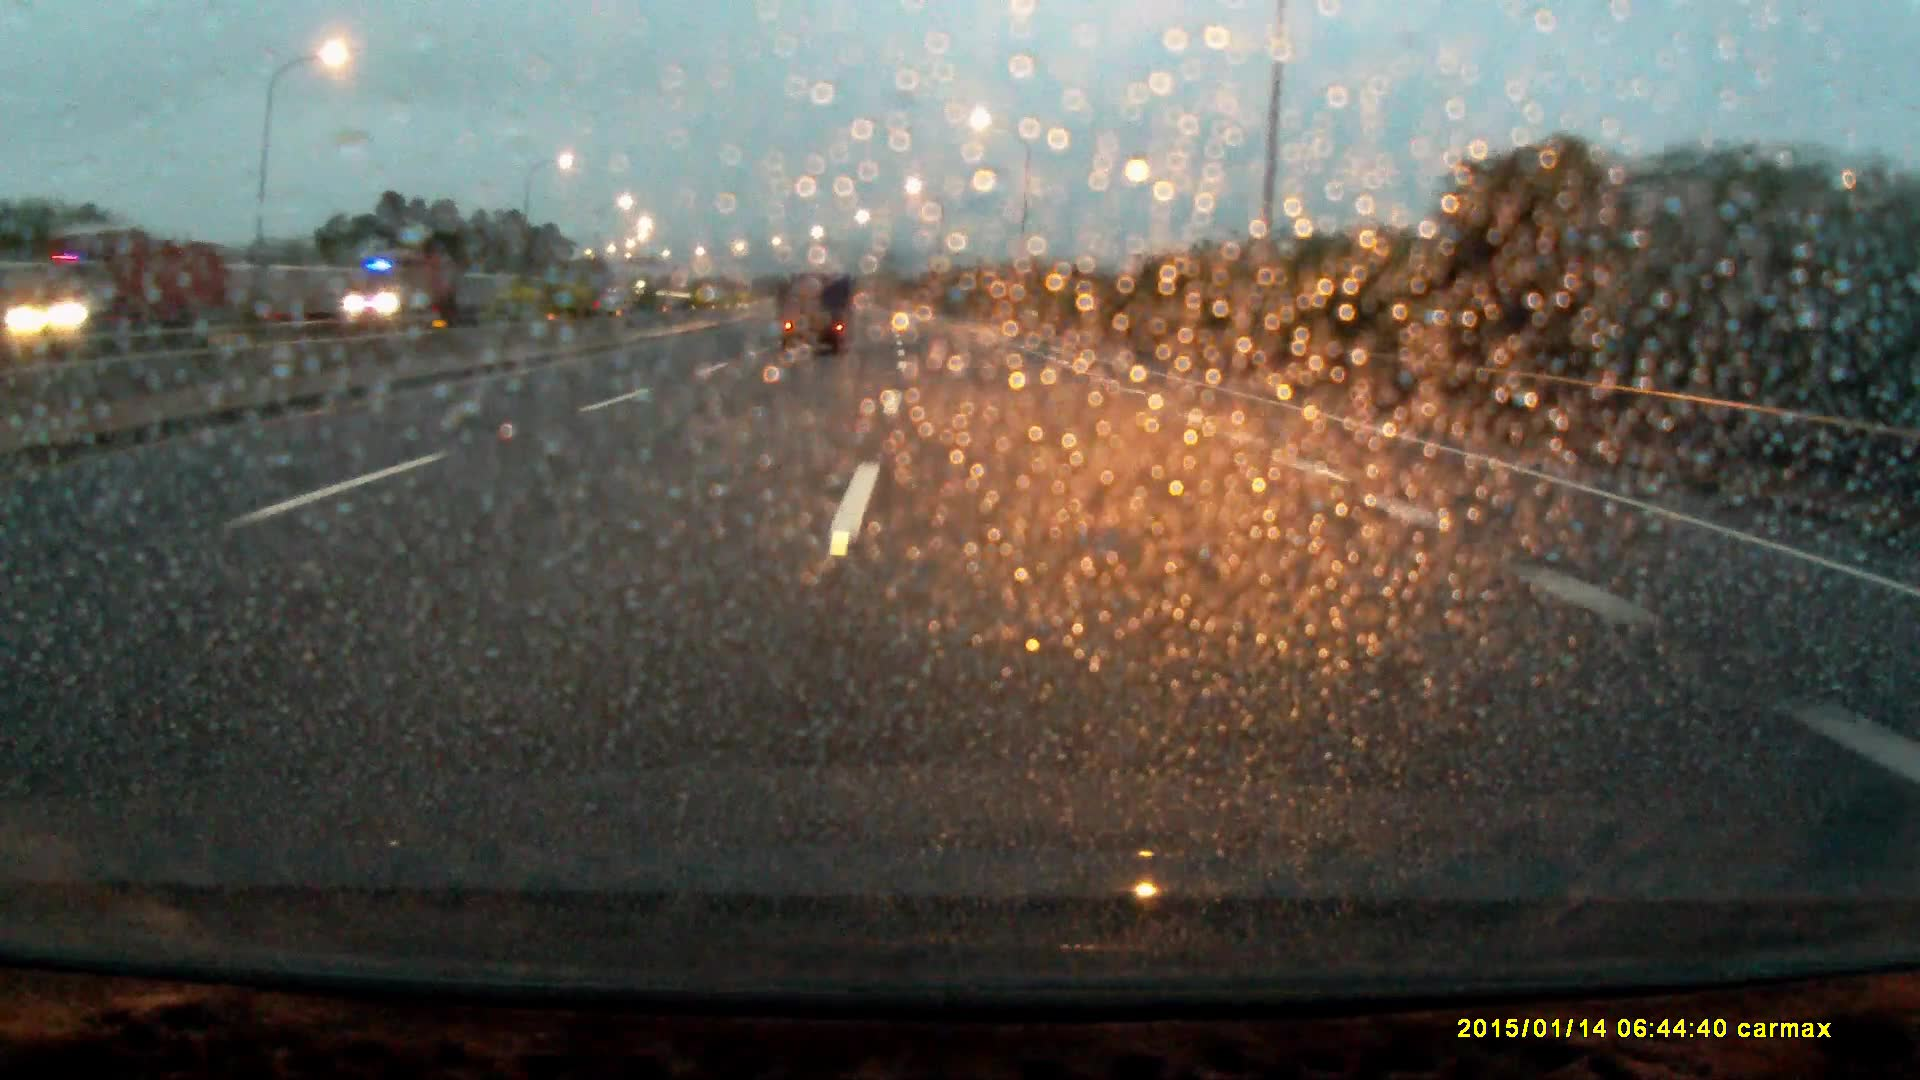vehicle: (340, 252, 456, 320), (775, 274, 855, 361)
